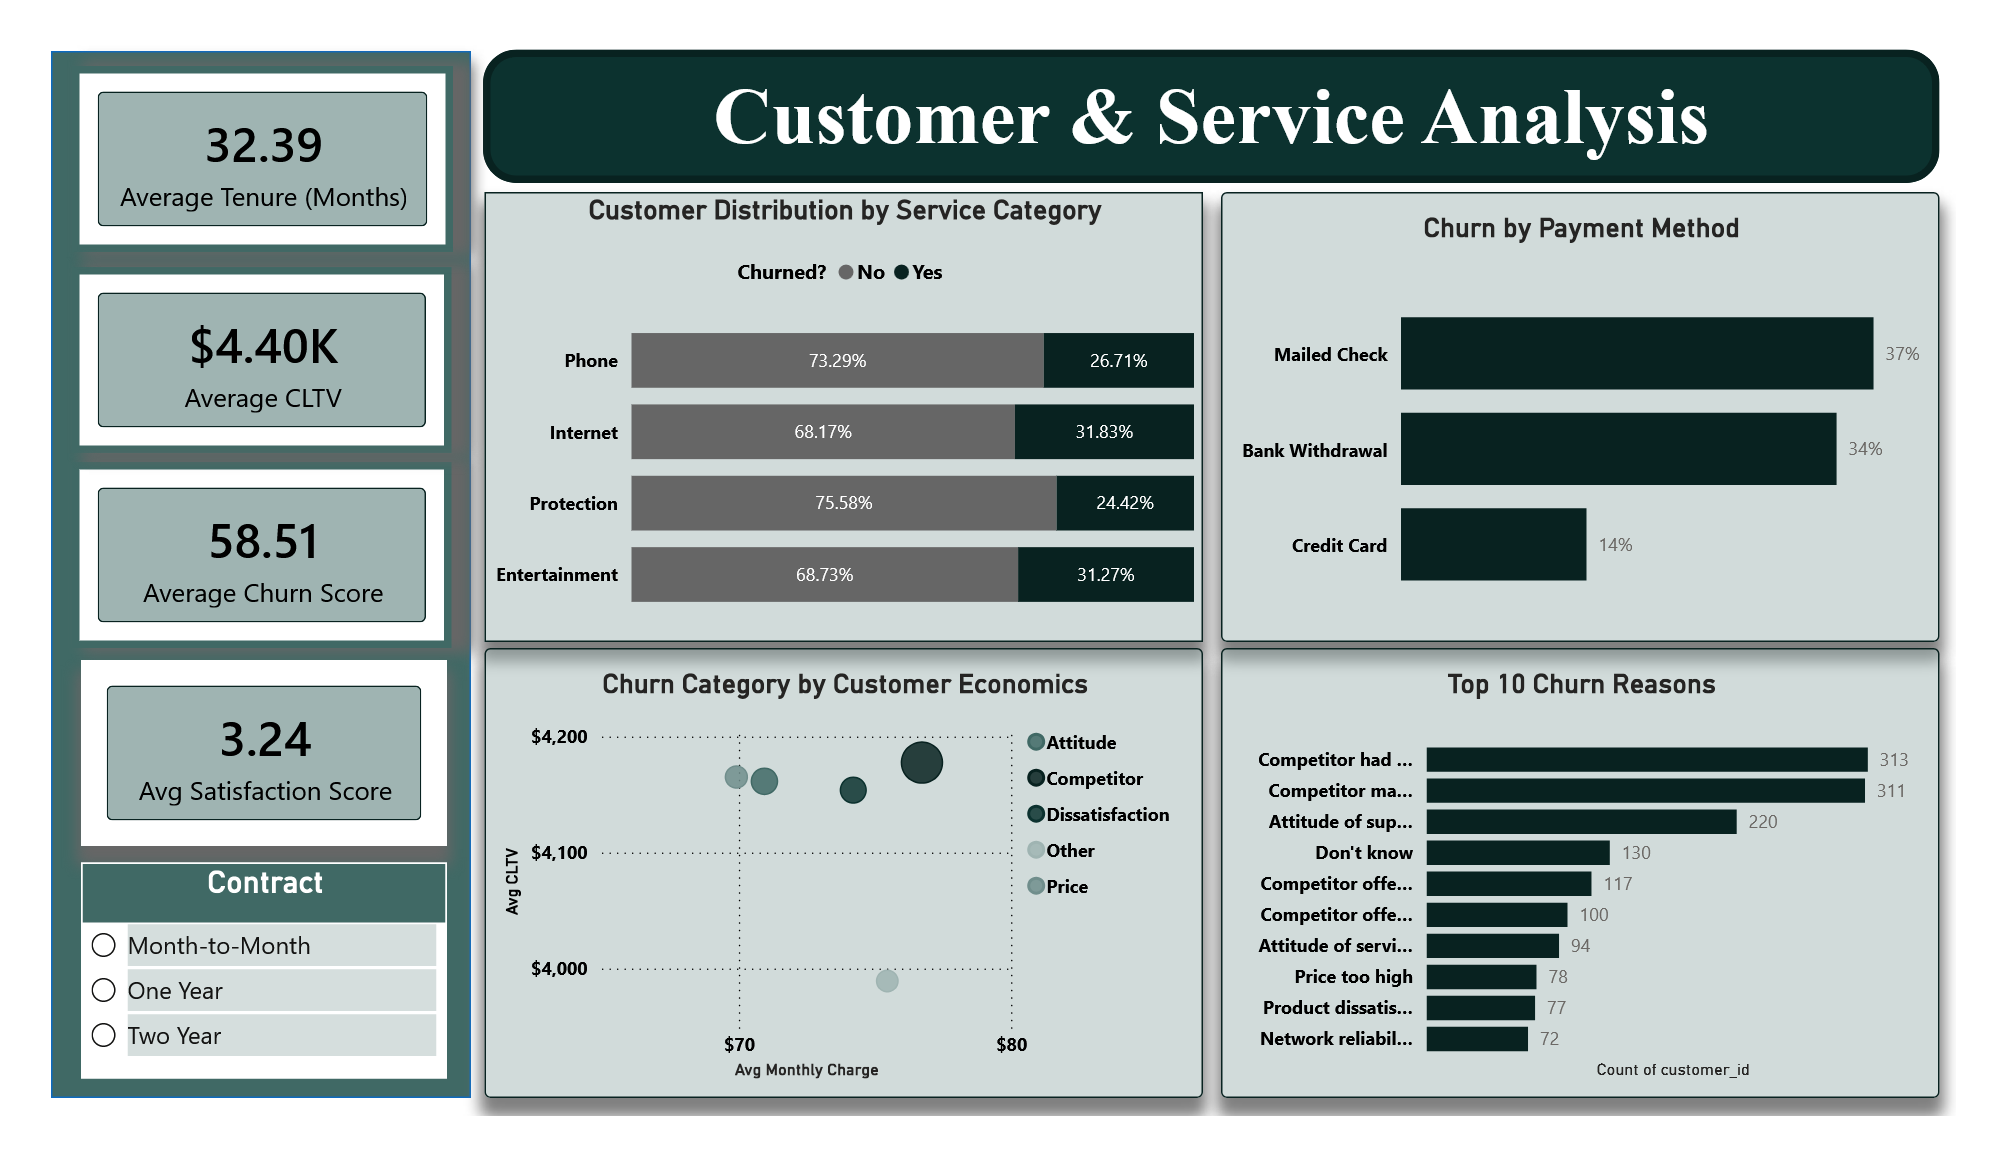

Layout of this report page (visuals, bound fields, positions):
{"tool":"powerbi","page":{"name":"Page 2","canvas":[1280,720],"ordinal":1},"visuals":[{"type":"shape","box":[298.4,8.7,970.7,89.1],"z":0},{"type":"shape","box":[9.7,9.7,279.9,698.5],"z":1000},{"type":"hundredPercentStackedBarChart","title":"Customer Distribution by Service Category","fields":{"Category":["Services_Unpivoted.service"],"Y":["Count(Services_Unpivoted.customer_id)"],"Series":["telco_customer_churn telco_customer_churn_status.churn_label"]},"box":[299.2,103.8,479,300.4],"z":2000},{"type":"cardVisual","fields":{"Data":["Avg(telco_customer_churn telco_customer_churn_status.churn_score)"]},"box":[23.8,283.8,253.4,124.3],"z":3000},{"type":"clusteredBarChart","title":"Churn by Payment Method","fields":{"Y":["telco_customer_churn telco_customer_churn_status.Churn Rate"],"Category":["telco_customer_churn telco_customer_churn_services.payment_method"]},"box":[790.2,103.8,479,300.4],"z":4000},{"type":"cardVisual","fields":{"Data":["Avg(telco_customer_churn telco_customer_churn_status.cltv)"]},"box":[23.8,153.8,253.4,124.3],"z":5000},{"type":"cardVisual","fields":{"Data":["Avg(telco_customer_churn telco_customer_churn_services.tenure_in_months)"]},"box":[23.8,20,253.8,123.8],"z":6000},{"type":"cardVisual","fields":{"Data":["Avg(telco_customer_churn telco_customer_churn_status.satisfaction_score)"]},"box":[30,416.2,243.8,123.8],"z":7000},{"type":"clusteredBarChart","title":"Top 10 Churn Reasons","fields":{"Category":["telco_customer_churn telco_customer_churn_status.churn_reason"],"Y":["CountNonNull(telco_customer_churn telco_customer_churn_status.customer_id)"]},"box":[790.2,407.8,479,300.4],"z":8000},{"type":"scatterChart","title":"Churn Category by Customer Economics","fields":{"X":["Avg(telco_customer_churn telco_customer_churn_services.monthly_charge)"],"Y":["Avg(telco_customer_churn telco_customer_churn_status.cltv)"],"Size":["CountNonNull(telco_customer_churn telco_customer_churn_status.customer_id)"],"Series":["telco_customer_churn telco_customer_churn_status.churn_category"]},"box":[299.2,407.8,479,300.4],"z":9000},{"type":"listSlicer","fields":{"Values":["telco_customer_churn telco_customer_churn_services.contract"]},"box":[30,551.2,243.8,143.8],"z":10000}]}

Visuals, with their boxes in screenshot pixels (x1, y1, x2, y2), scaled from the page's 1280x720 canvas onto the 1992x1152 screenshot:
shape: (464,14,1975,156)
shape: (15,16,451,1133)
"Customer Distribution by Service Category" hundredPercentStackedBarChart: (466,166,1211,647)
cardVisual - Avg(telco_customer_churn telco_customer_churn_status.churn_score): (37,454,431,653)
"Churn by Payment Method" clusteredBarChart: (1230,166,1975,647)
cardVisual - Avg(telco_customer_churn telco_customer_churn_status.cltv): (37,246,431,445)
cardVisual - Avg(telco_customer_churn telco_customer_churn_services.tenure_in_months): (37,32,432,230)
cardVisual - Avg(telco_customer_churn telco_customer_churn_status.satisfaction_score): (47,666,426,864)
"Top 10 Churn Reasons" clusteredBarChart: (1230,652,1975,1133)
"Churn Category by Customer Economics" scatterChart: (466,652,1211,1133)
listSlicer - telco_customer_churn telco_customer_churn_services.contract: (47,882,426,1112)
